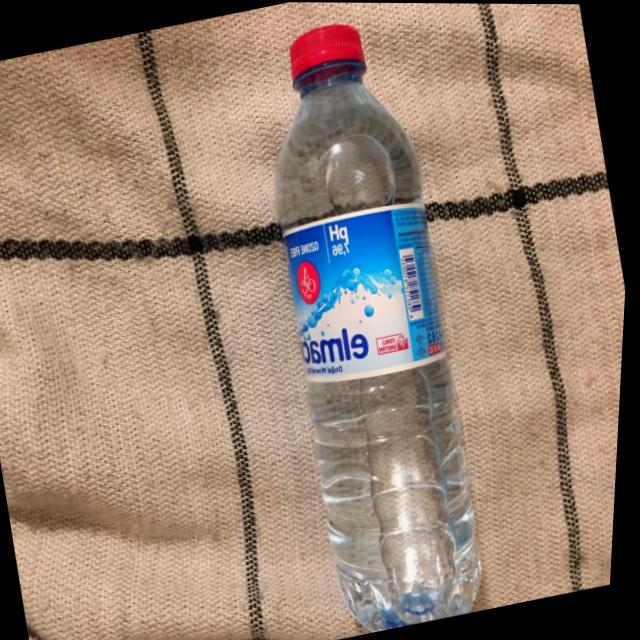anorganik: (192, 1, 540, 638)
